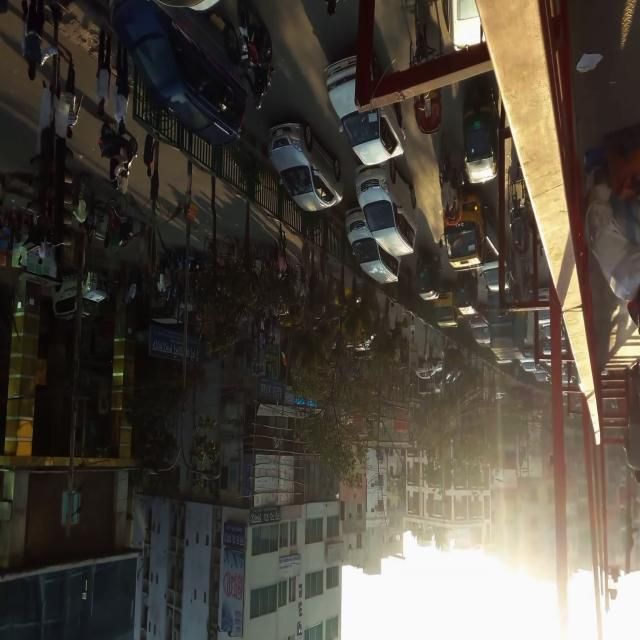blue: (111, 5, 256, 144)
silver: (269, 116, 345, 214)
